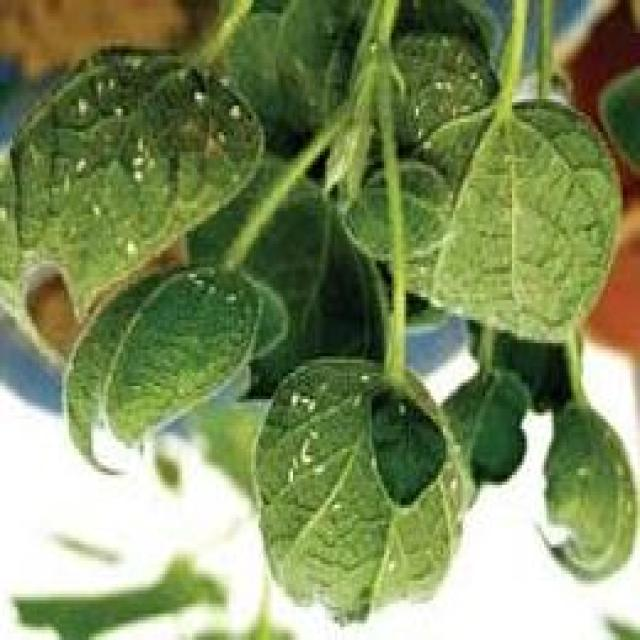Leaf Curl Virus: (62, 32, 541, 528)
